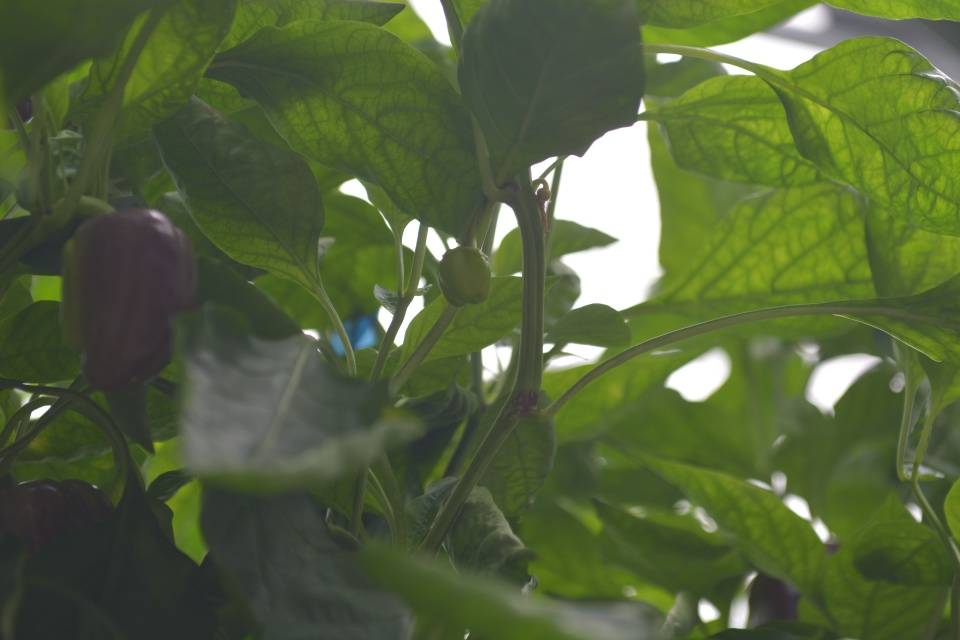fruit: (58, 205, 202, 395)
immature: (436, 245, 495, 308)
